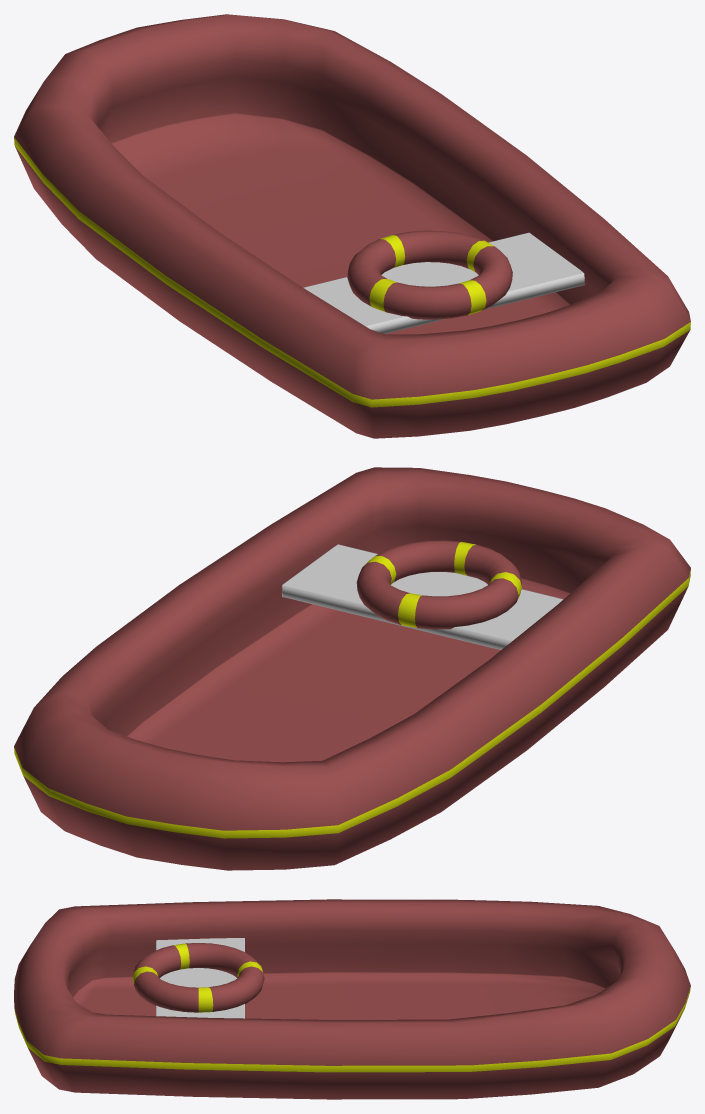
Rendered from rescueboat_model.fbx.
The picture shows the model from 3 angles, top to bottom: view 1: azimuth 30°, elevation 25°; view 2: azimuth 150°, elevation 25°; view 3: azimuth 270°, elevation 25°; orthographic projection. The views are drawn at different scales.
Parts seen in each view (by area): view 1: Cube; view 2: Cube; view 3: Cube.
Part boxes in pixels (x1=…): Cube: x1=14, y1=14, x2=690, y2=438; Cube: x1=14, y1=467, x2=690, y2=870; Cube: x1=14, y1=899, x2=690, y2=1099.
Bounding box in the file's own units: 14.59 × 3.88 × 28.6.
